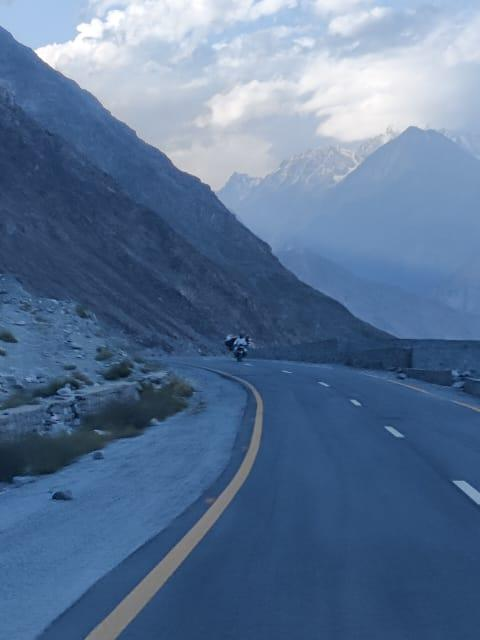left_turn: (121, 278, 345, 392)
